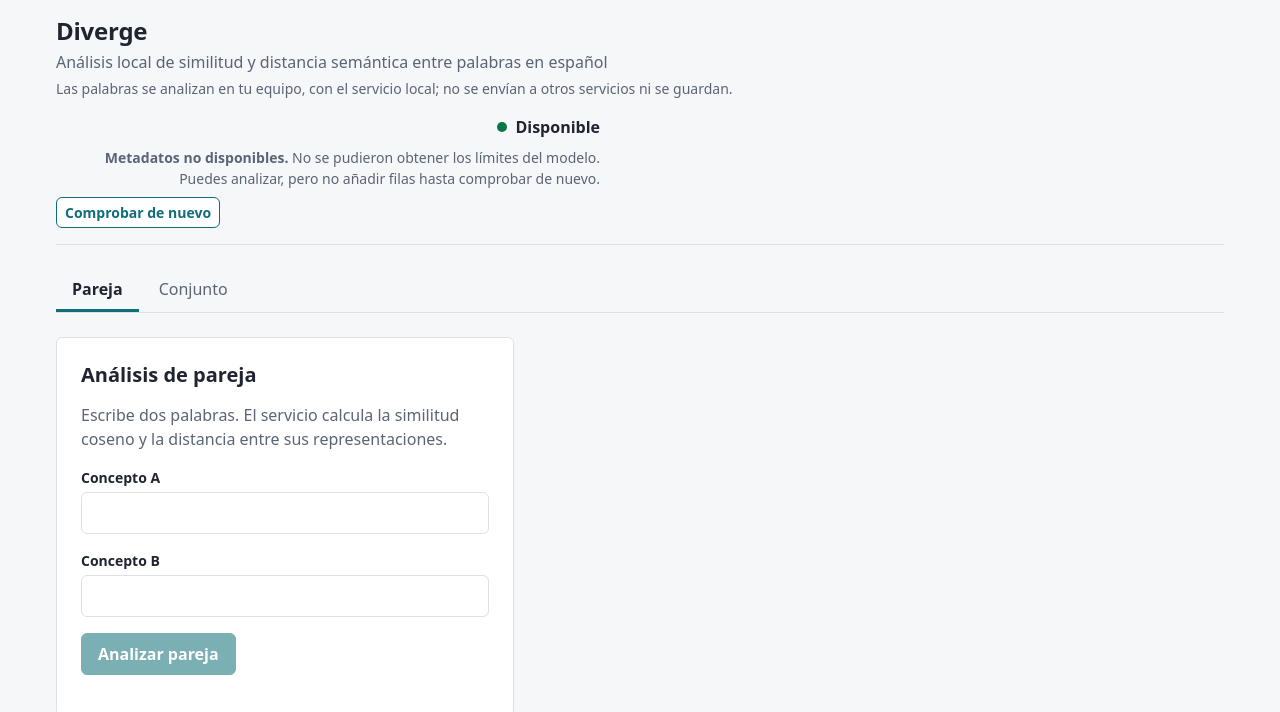
Scenario: without /model no row can be added and no limit is invented
Expected: the text "Disponible" is shown, [515,115,600,139]
What coordinates should you click on to do the following:
click the tab "Conjunto"
I would click on:
 (193, 290)
Its box is [143,269,244,312].
(page scrolled)
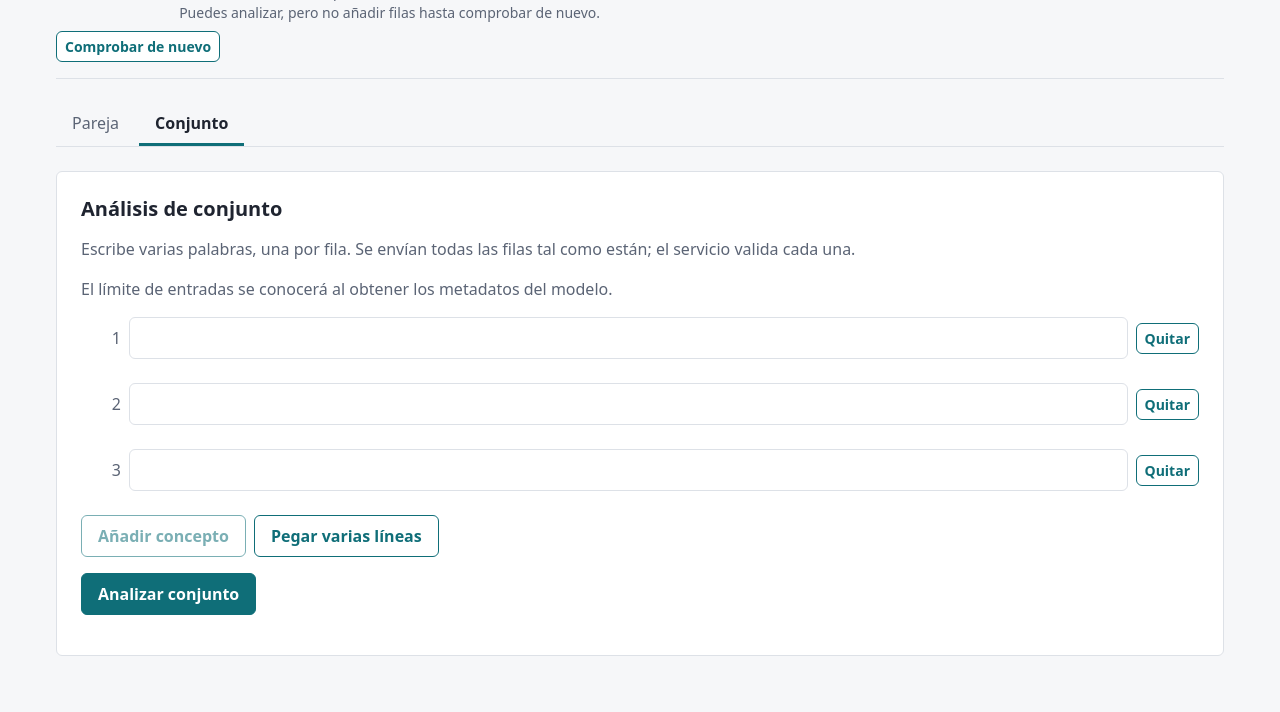
Result: the button "Añadir concepto" is disabled at [81,515,246,557]
Result: the text "El límite de entradas se conocerá al obtener los metadatos del modelo." is shown at [81,278,612,300]
Result: the button "Analizar conjunto" is enabled at [81,573,256,615]
